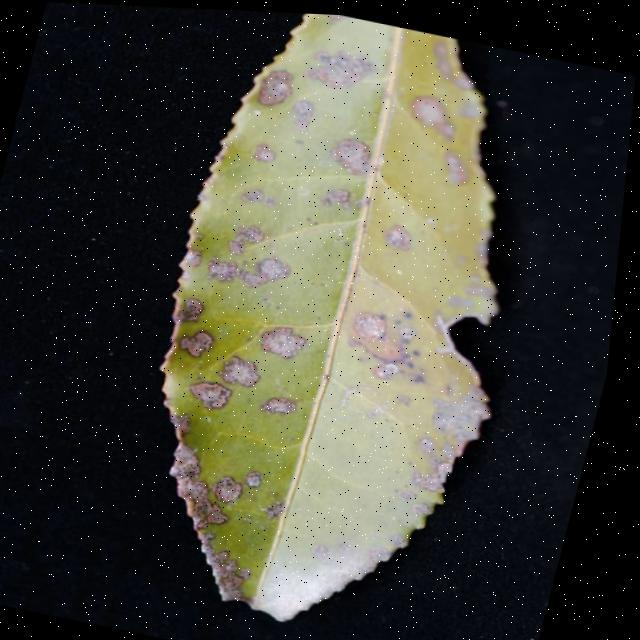Tea red rust: (117, 36, 569, 600)
